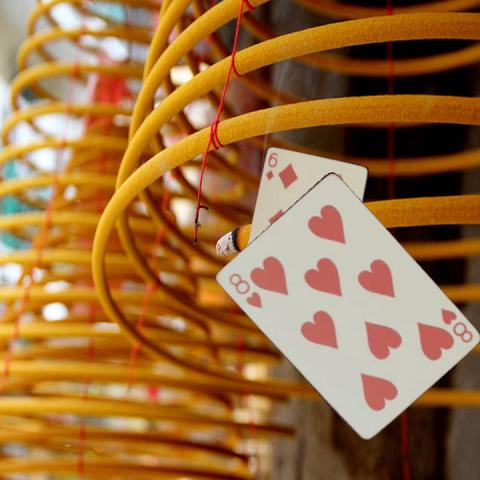6d: (264, 149, 280, 182)
8h: (225, 269, 264, 311), (437, 305, 474, 345)
